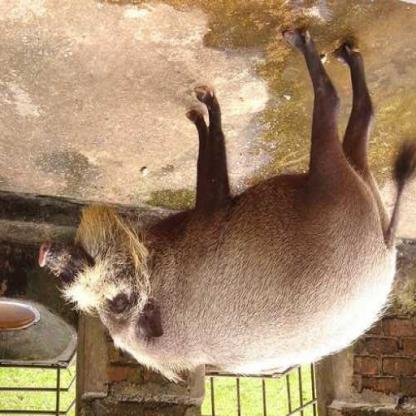boar: (29, 35, 415, 383)
